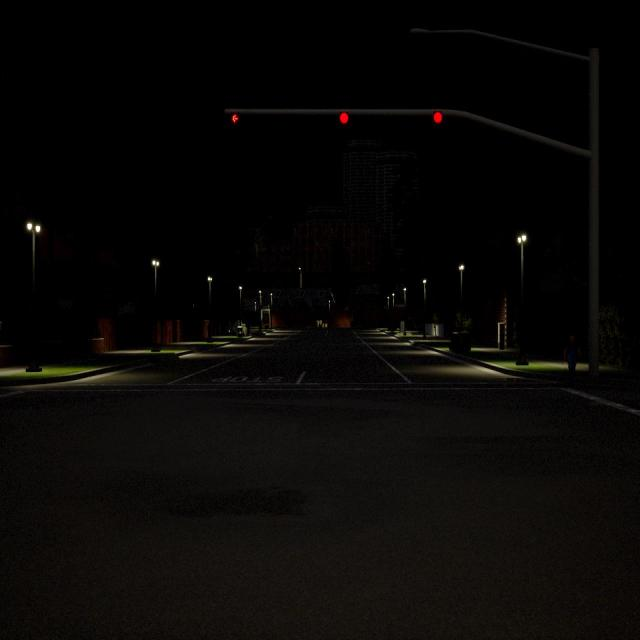Pedestrian: (565, 336, 578, 378)
traffic_light: (339, 112, 348, 125), (433, 111, 442, 124), (231, 113, 238, 124)
